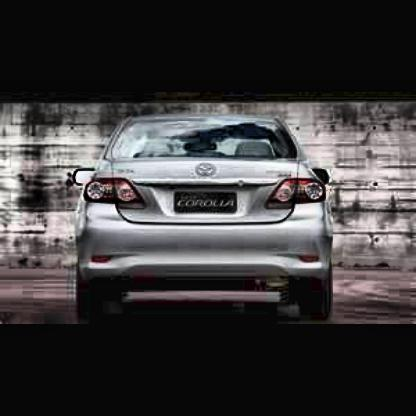Toyota Corolla Sedan 2012: (73, 114, 342, 324)
